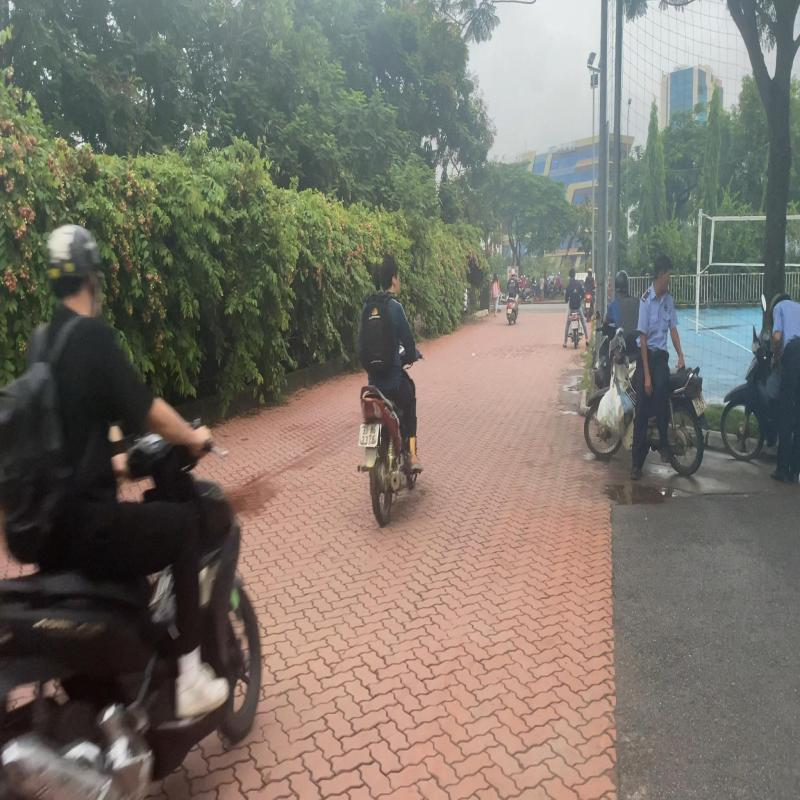licenseplate: (358, 421, 380, 446)
motorcyclist: (352, 250, 431, 528)
nohelmet: (377, 252, 400, 294)
